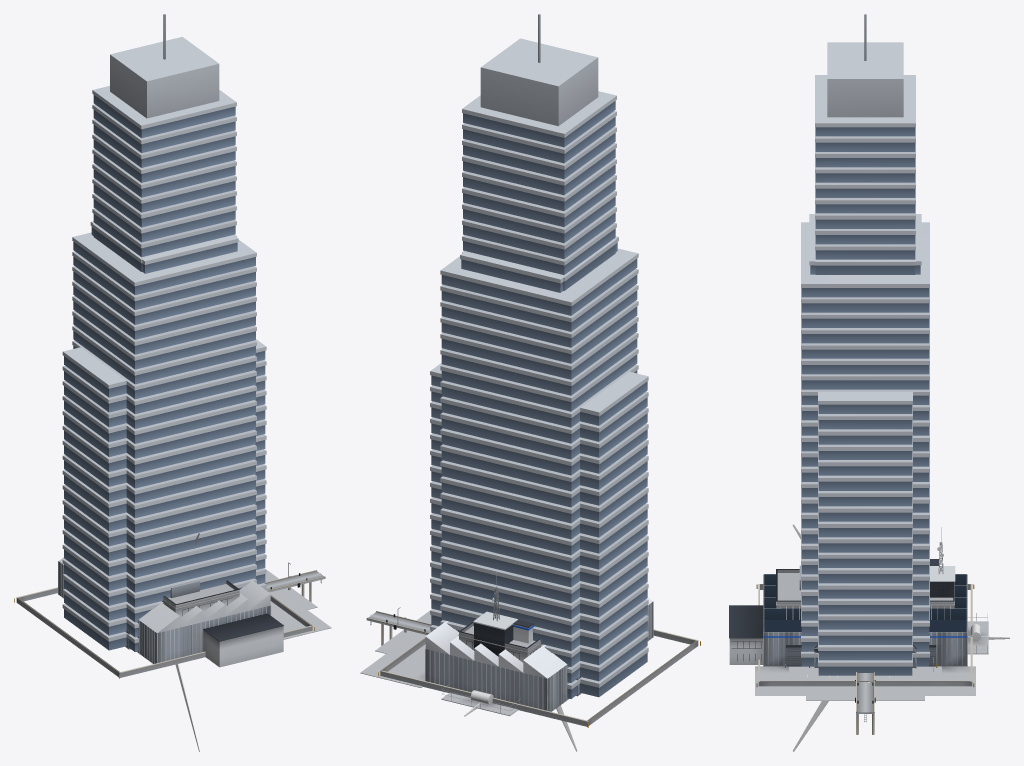
The model's file is continua_props.glb.
3 renders of one model, left to right at view 1: azimuth 30°, elevation 25°; view 2: azimuth 150°, elevation 25°; view 3: azimuth 270°, elevation 25°, orthographic. The views are drawn at different scales.
Visible parts, largest first — view 1: PROP_Skyline_A, PROP_Skyline_C, PROP_Warehouse, PROP_Bund, PROP_Skyline_B, PROP_Facility_Main, PROP_Jetty; view 2: PROP_Skyline_A, PROP_Skyline_C, PROP_Warehouse, PROP_Bund, PROP_Facility_Main, PROP_Skyline_B, PROP_Gateway, PROP_Jetty; view 3: PROP_Skyline_A, PROP_Skyline_C, PROP_Warehouse, PROP_Facility_Main, PROP_Bund, PROP_Skyline_B, PROP_Jetty, PROP_ResponseStation, PROP_Gateway, PROP_Facility_Hangar.
Boxes of the visible parts, x1,y1,x2,y2 form: PROP_Skyline_A: (72, 14, 256, 651); PROP_Skyline_C: (62, 339, 266, 650); PROP_Warehouse: (58, 557, 331, 667); PROP_Bund: (14, 587, 314, 678); PROP_Skyline_B: (90, 221, 238, 273); PROP_Facility_Main: (162, 580, 239, 617); PROP_Jetty: (264, 562, 325, 602); PROP_Skyline_A: (440, 14, 638, 698); PROP_Skyline_C: (430, 363, 648, 697); PROP_Warehouse: (360, 597, 653, 711); PROP_Bund: (378, 629, 700, 727); PROP_Facility_Main: (458, 572, 542, 662); PROP_Skyline_B: (460, 236, 618, 292); PROP_Gateway: (441, 682, 520, 716); PROP_Jetty: (366, 607, 432, 645); PROP_Skyline_A: (801, 14, 929, 666); PROP_Skyline_C: (818, 392, 912, 675); PROP_Warehouse: (729, 574, 975, 695); PROP_Facility_Main: (776, 527, 955, 674); PROP_Bund: (756, 584, 974, 687); PROP_Skyline_B: (809, 214, 921, 274); PROP_Jetty: (855, 672, 875, 734); PROP_ResponseStation: (789, 559, 941, 677); PROP_Gateway: (967, 613, 988, 654); PROP_Facility_Hangar: (806, 645, 924, 700).
Bounding box in the file's own units: 71.7 × 192 × 66.1.
